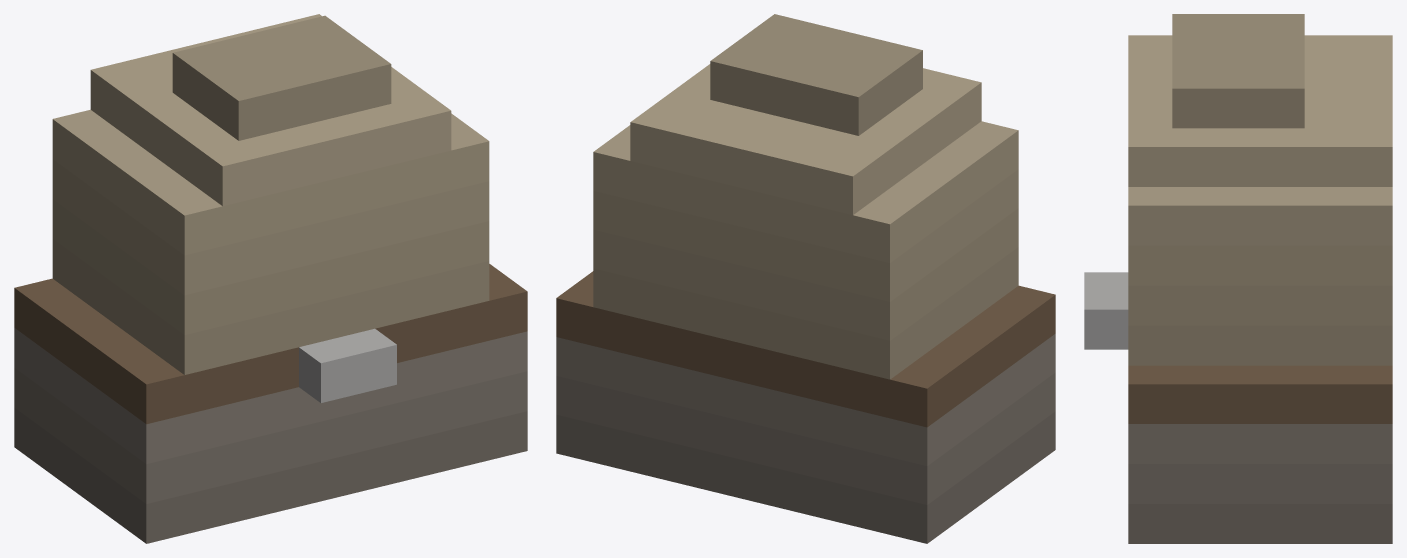
Rendered from body_base.glb.
3 views of the same model, side by side, from view 1: azimuth 30°, elevation 25°; view 2: azimuth 150°, elevation 25°; view 3: azimuth 270°, elevation 25° (orthographic). The views are drawn at different scales.
Visible parts, largest first — view 1: body_base; view 2: body_base; view 3: body_base.
Part boxes in pixels (<box>): body_base: <box>14,14,527,543</box>; body_base: <box>556,14,1055,543</box>; body_base: <box>1084,14,1392,543</box>.
Bounding box in the file's own units: 1.25 × 1.25 × 0.875.
